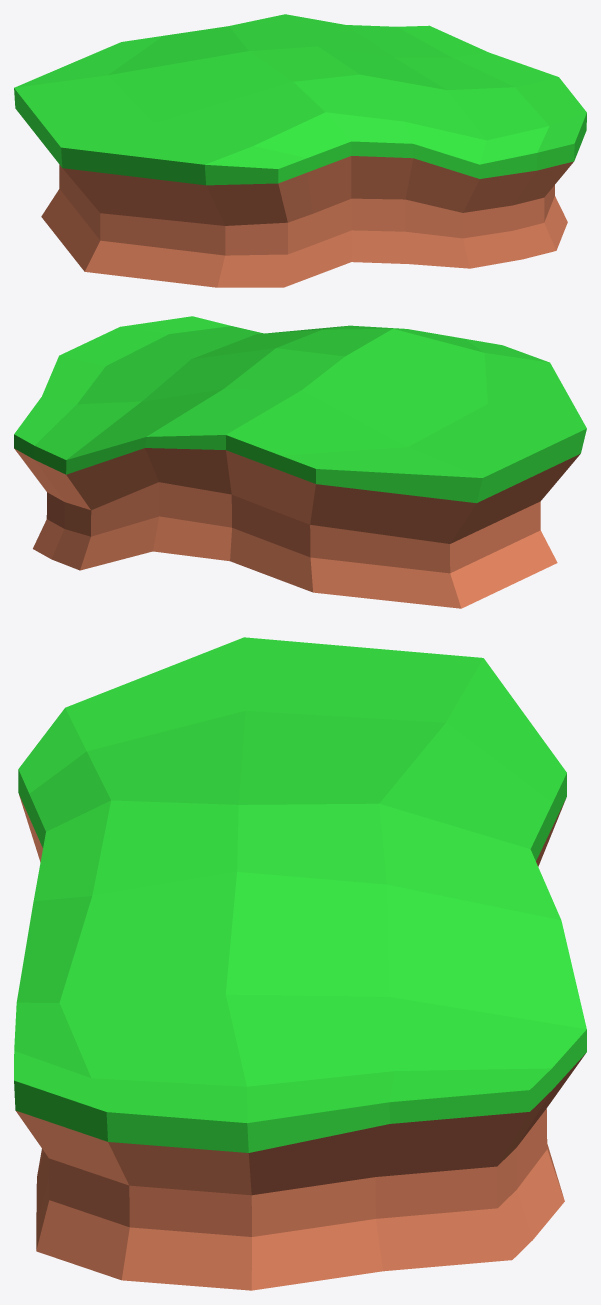
Rendered from terrant1.fbx.
The picture shows the model from 3 angles, top to bottom: view 1: azimuth 30°, elevation 25°; view 2: azimuth 150°, elevation 25°; view 3: azimuth 270°, elevation 25°; orthographic projection. The views are drawn at different scales.
Parts seen in each view (by area): view 1: Plane.001; view 2: Plane.001; view 3: Plane.001.
Boxes of the visible parts, <box> form: Plane.001: <box>14,14,586,287</box>; Plane.001: <box>14,316,586,608</box>; Plane.001: <box>14,637,586,1290</box>.
Bounding box in the file's own units: 569 × 189 × 344.
